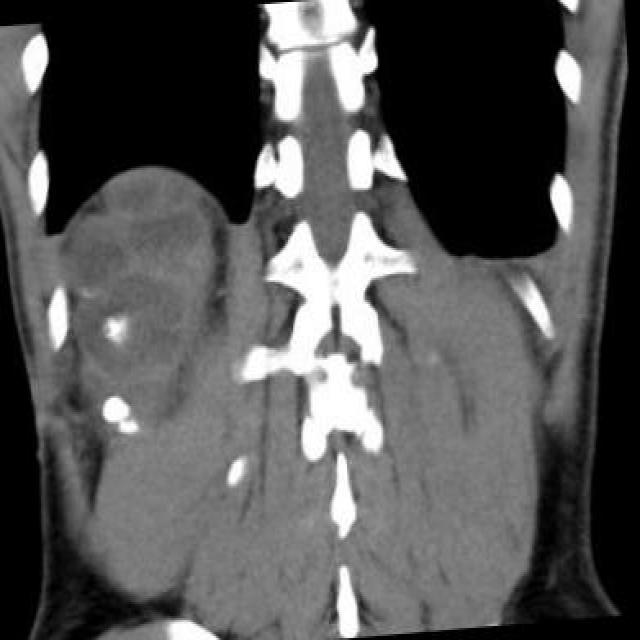Tas_Var: (94, 392, 134, 424), (101, 311, 125, 341), (112, 419, 142, 437)
